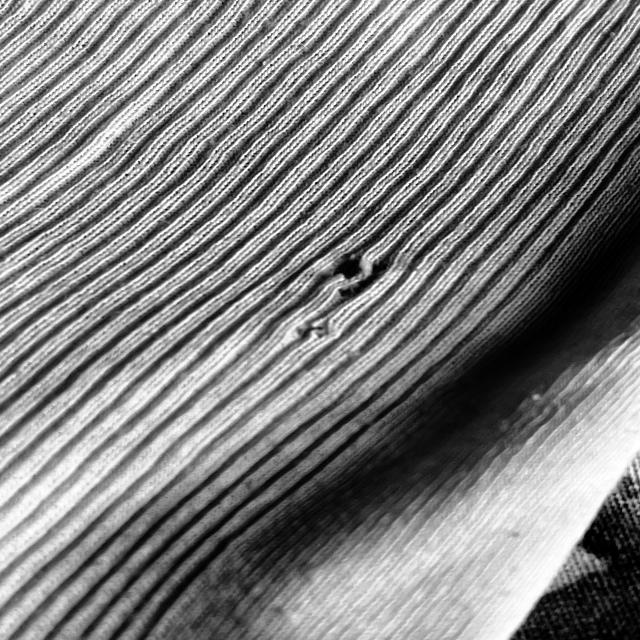Hole: (307, 237, 398, 292), (286, 316, 338, 348)
